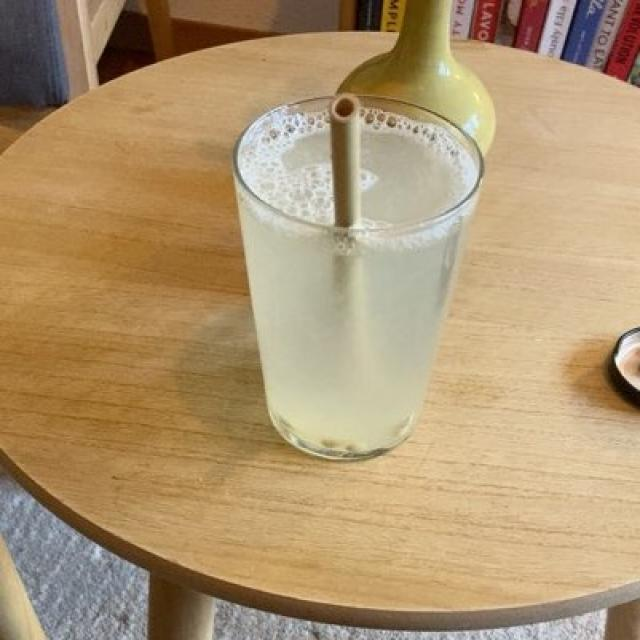water: (255, 107, 482, 471)
